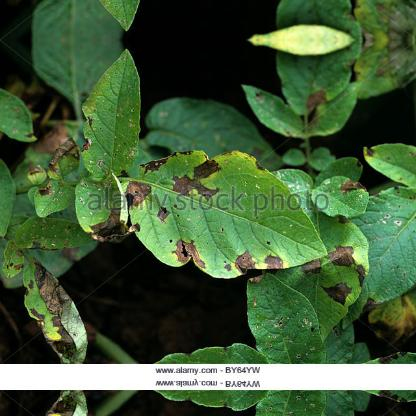Early-Blight: (1, 42, 415, 358), (119, 149, 333, 278), (23, 108, 133, 242), (0, 236, 92, 354)
